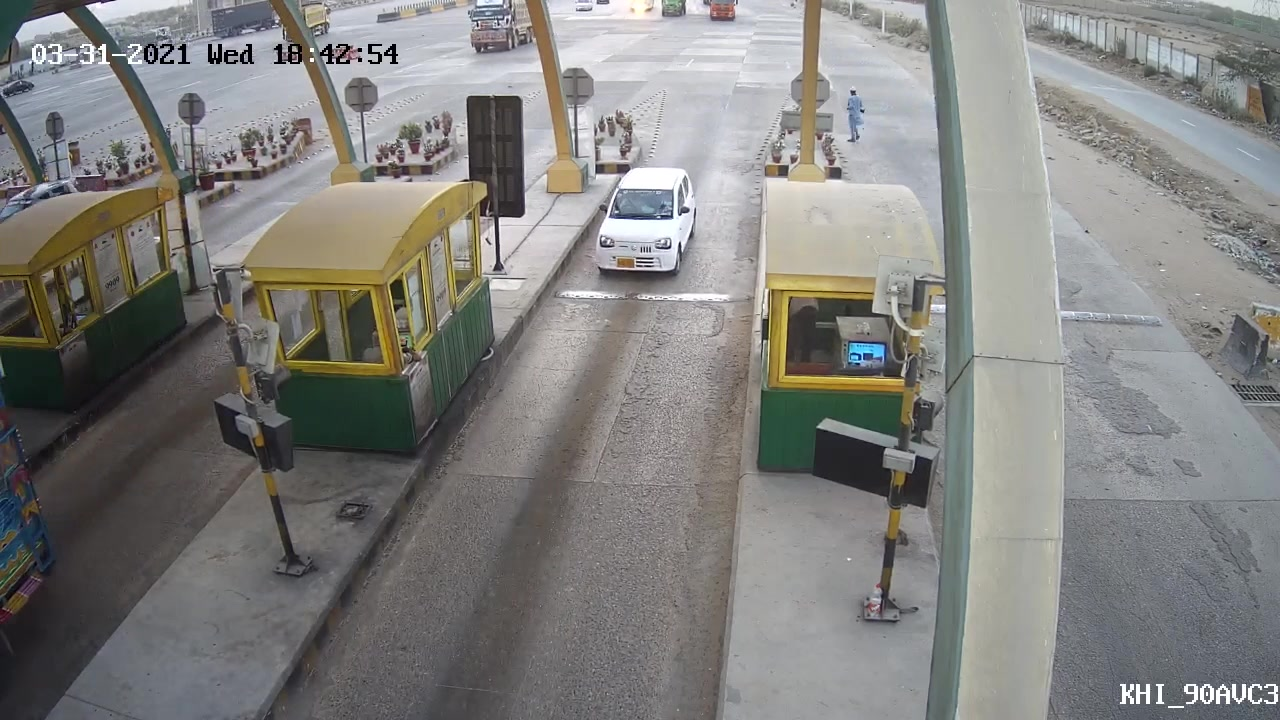F1: (582, 163, 707, 276)
